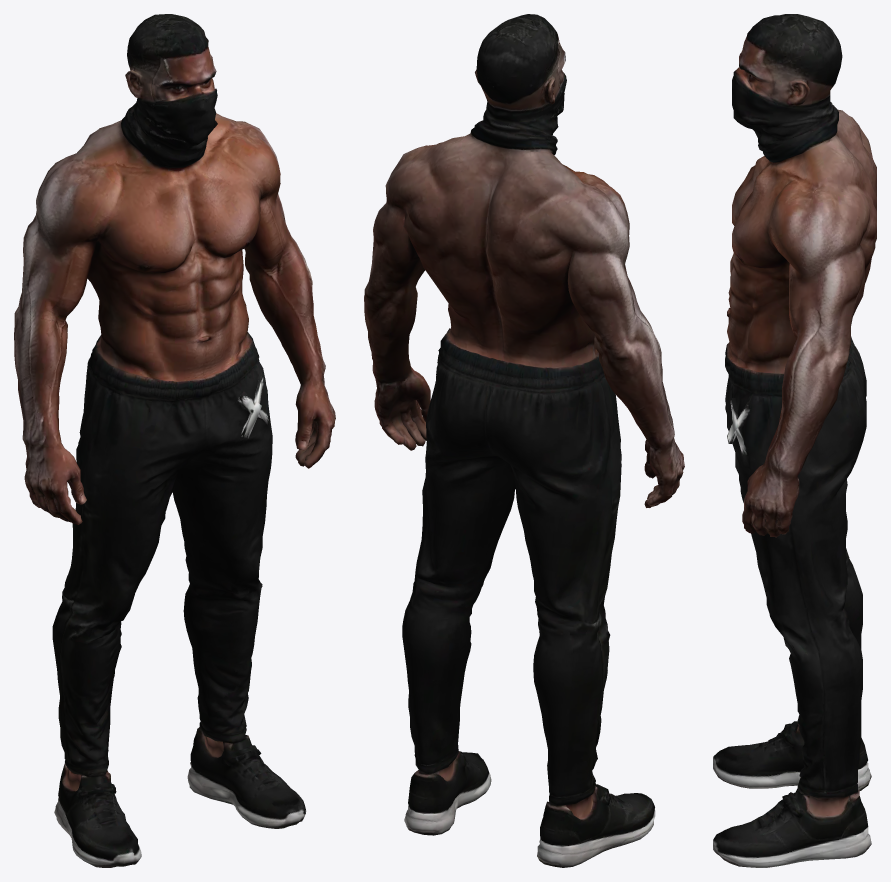
Rendered from KLOVE-opt.glb.
3 renders of one model, left to right at view 1: azimuth 30°, elevation 25°; view 2: azimuth 150°, elevation 25°; view 3: azimuth 270°, elevation 25°, orthographic.
Visible parts, largest first — view 1: tripo_node_7c754991-dafd-42d6-b4f6-fec1152c4f55; view 2: tripo_node_7c754991-dafd-42d6-b4f6-fec1152c4f55; view 3: tripo_node_7c754991-dafd-42d6-b4f6-fec1152c4f55.
Boxes of the visible parts, left/top/right/bottom form: tripo_node_7c754991-dafd-42d6-b4f6-fec1152c4f55: left=14, top=14, right=335, bottom=867; tripo_node_7c754991-dafd-42d6-b4f6-fec1152c4f55: left=364, top=14, right=684, bottom=867; tripo_node_7c754991-dafd-42d6-b4f6-fec1152c4f55: left=713, top=14, right=876, bottom=867.
Size of the model in its own units: 0.3846 by 0.9778 by 0.1818.
1 material, 1 textured.
